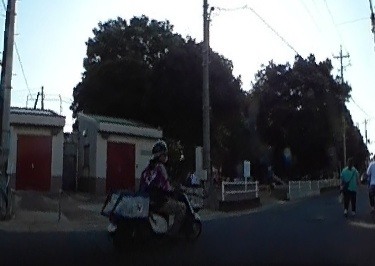person: (141, 139, 189, 230), (340, 155, 359, 214)
